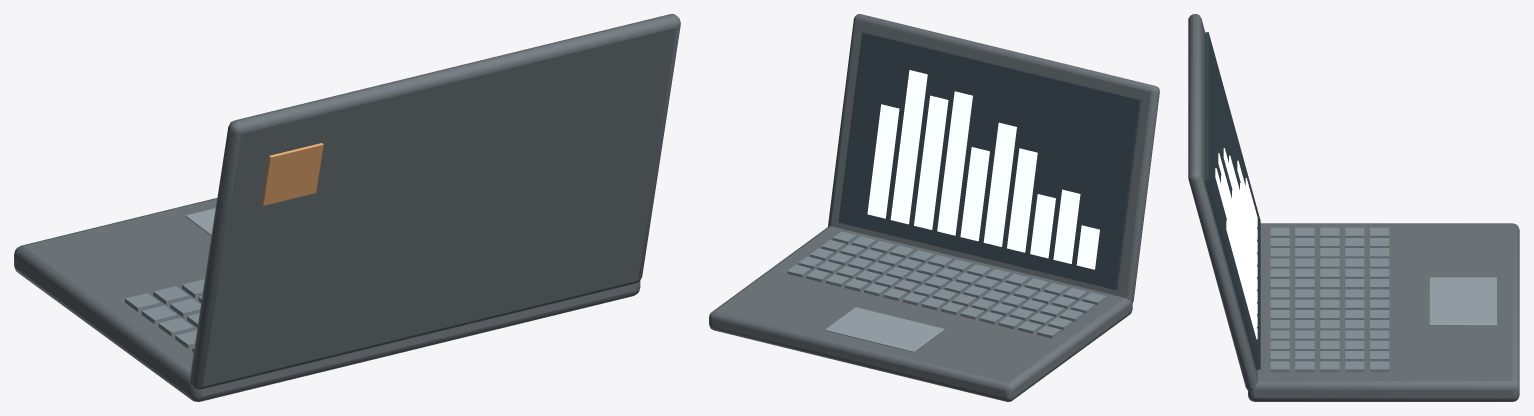
File: crew_laptop.glb
The picture shows the model from 3 angles, left to right: view 1: azimuth 30°, elevation 25°; view 2: azimuth 150°, elevation 25°; view 3: azimuth 270°, elevation 25°; orthographic projection. The views are drawn at different scales.
Visible parts, largest first — view 1: laptop_lid_graphite, laptop_base_graphite, laptop_keys_dark_alloy, laptop_sticker_orange; view 2: laptop_screen_dark_glass, laptop_base_graphite, laptop_plot_screen_green, laptop_keys_dark_alloy, laptop_lid_graphite, laptop_pad_slate_panel; view 3: laptop_base_graphite, laptop_keys_dark_alloy, laptop_lid_graphite, laptop_screen_dark_glass, laptop_plot_screen_green, laptop_pad_slate_panel.
Part boxes in pixels (x1,y1,x2,y2): laptop_lid_graphite: [189, 14, 680, 389]; laptop_base_graphite: [14, 198, 640, 401]; laptop_keys_dark_alloy: [125, 279, 204, 352]; laptop_sticker_orange: [262, 143, 323, 205]; laptop_screen_dark_glass: [838, 32, 1140, 289]; laptop_base_graphite: [709, 226, 1132, 401]; laptop_plot_screen_green: [867, 70, 1099, 269]; laptop_keys_dark_alloy: [787, 231, 1106, 338]; laptop_lid_graphite: [828, 14, 1159, 303]; laptop_pad_slate_panel: [824, 307, 944, 352]; laptop_base_graphite: [1248, 223, 1519, 401]; laptop_keys_dark_alloy: [1270, 227, 1389, 372]; laptop_lid_graphite: [1188, 14, 1257, 391]; laptop_screen_dark_glass: [1204, 32, 1260, 369]; laptop_plot_screen_green: [1215, 148, 1257, 339]; laptop_pad_slate_panel: [1429, 277, 1496, 325].
Size of the model in its own units: 0.34 by 0.2238 by 0.2925.
